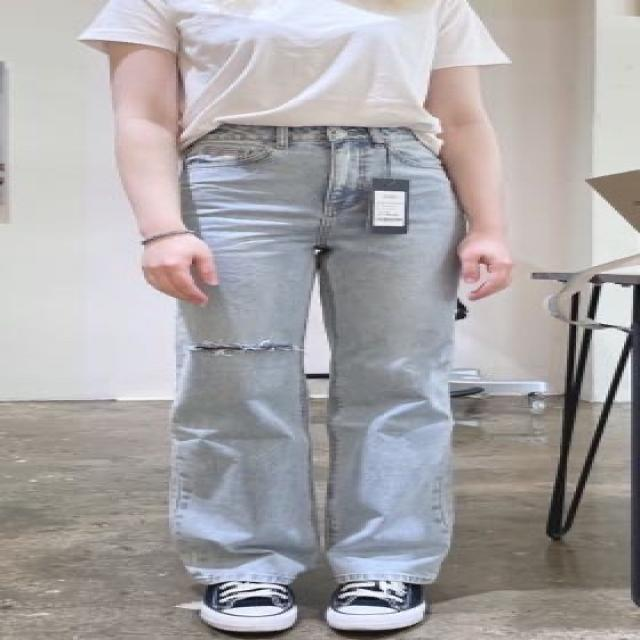denimpants: (166, 117, 455, 584)
shortsleeve: (70, 0, 505, 130)
